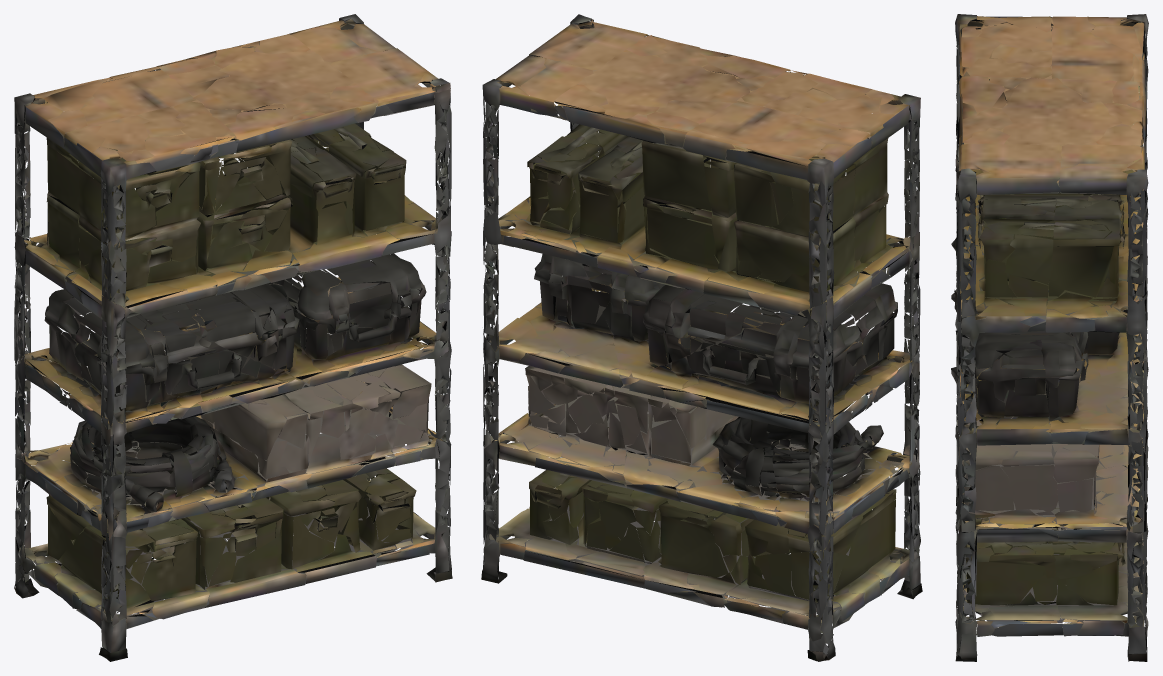
The model's file is prop_shelf.glb.
The picture shows the model from 3 angles, left to right: view 1: azimuth 30°, elevation 25°; view 2: azimuth 150°, elevation 25°; view 3: azimuth 270°, elevation 25°; orthographic projection. The views are drawn at different scales.
Parts seen in each view (by area): view 1: prop_shelf; view 2: prop_shelf; view 3: prop_shelf.
Part boxes in pixels (left/top/right/bottom): prop_shelf: left=14, top=14, right=452, bottom=661; prop_shelf: left=481, top=14, right=922, bottom=661; prop_shelf: left=951, top=14, right=1148, bottom=661.
Size of the model in its own units: 1.39 by 1.9 by 0.7012.
1 material, 1 textured.
